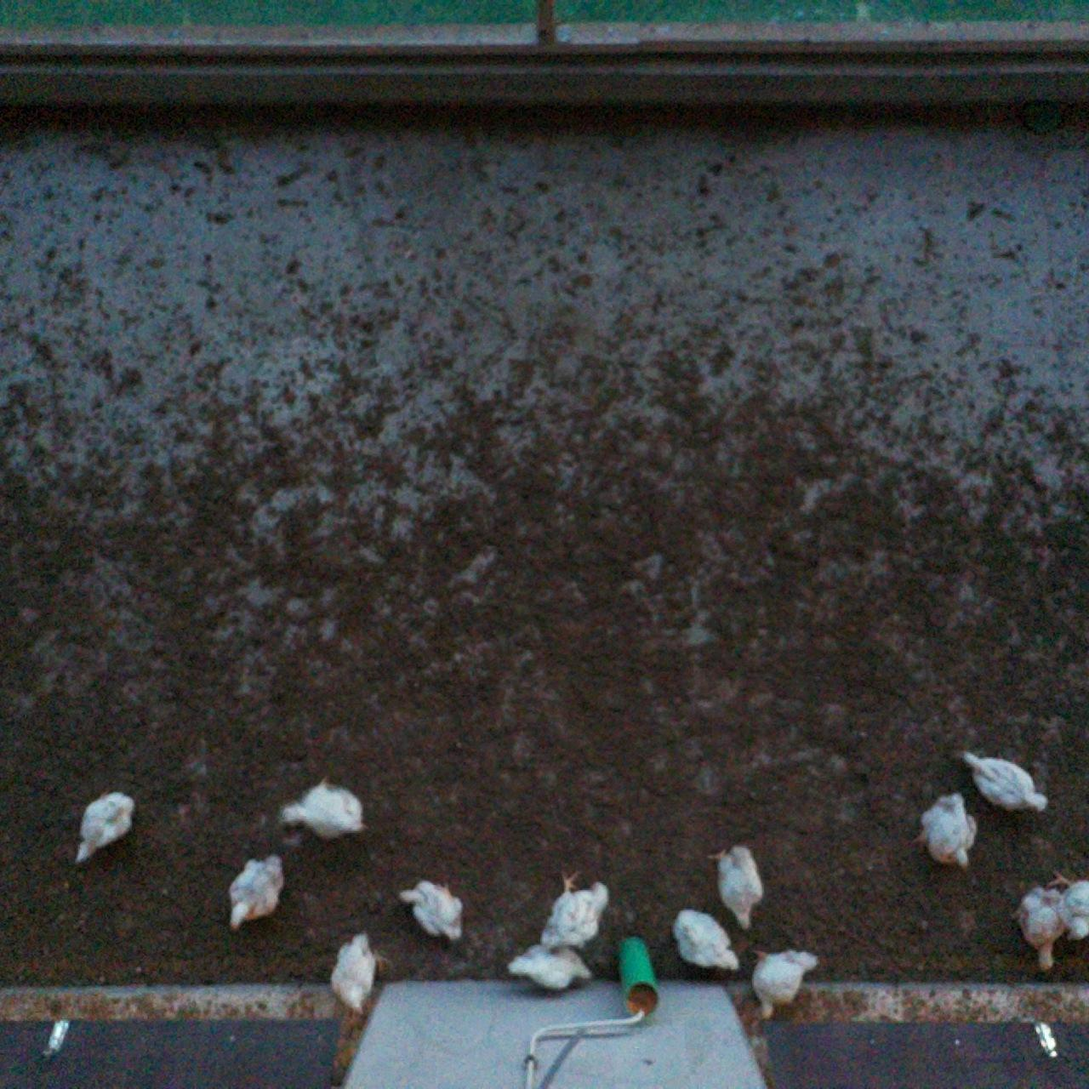chicken: (275, 768, 373, 842), (539, 862, 614, 956), (327, 927, 396, 1024), (957, 747, 1052, 816), (909, 791, 985, 877), (748, 941, 823, 1028), (704, 840, 768, 937), (220, 850, 289, 937), (71, 785, 141, 870), (1006, 882, 1069, 976), (666, 904, 744, 978), (393, 874, 469, 949), (503, 937, 597, 996), (1046, 866, 1089, 947)
